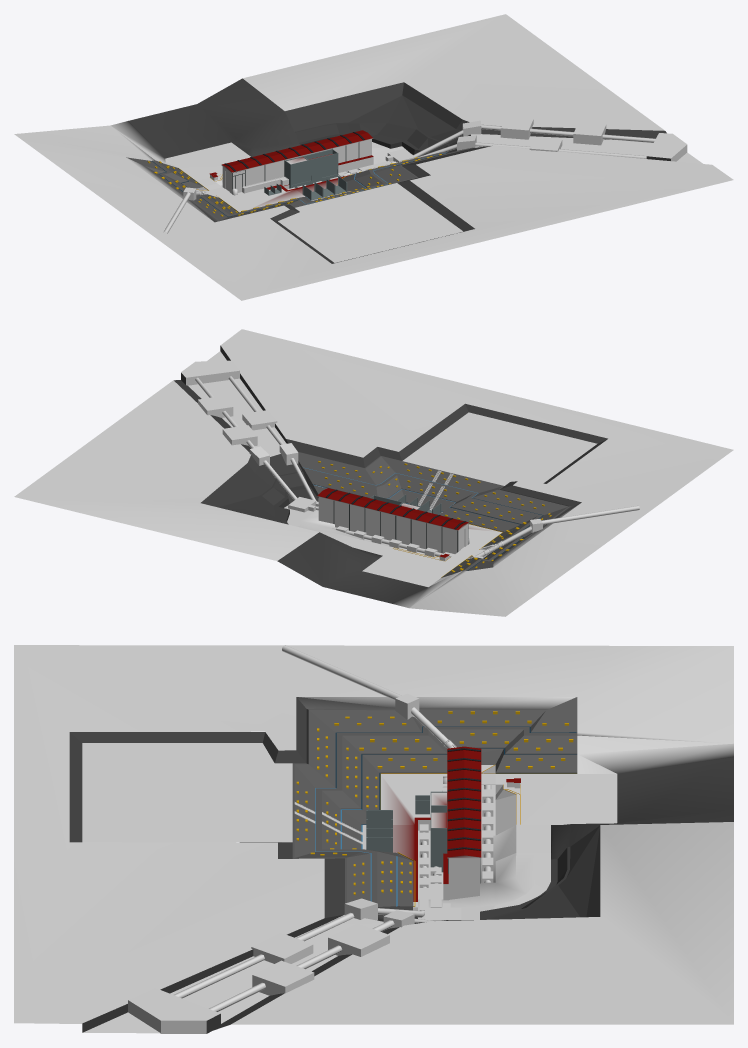
File: Cutzamala_PBR5_Berros_RecursosMaster.glb
3 views of the same model, one above another, from view 1: azimuth 30°, elevation 25°; view 2: azimuth 150°, elevation 25°; view 3: azimuth 270°, elevation 25° (orthographic). The views are drawn at different scales.
Parts seen in each view (by area): view 1: Pasto, Muros_2, Tuberias, Edificio, Piso1, Muros, Techos, Props2, Props1; view 2: Pasto, Muros_2, Tuberias, Muros, Edificio, Piso1, Props2, Techos, Props1; view 3: Pasto, Muros_2, Tuberias, Muros, Piso1, Techos, Edificio, Props2, Props1.
Part boxes in pixels (<box>): Pasto: <box>14,14,733,300</box>; Muros_2: <box>221,82,702,263</box>; Tuberias: <box>164,124,655,262</box>; Edificio: <box>210,139,373,200</box>; Piso1: <box>165,142,304,212</box>; Muros: <box>126,157,300,222</box>; Techos: <box>209,130,373,186</box>; Props2: <box>210,132,446,204</box>; Props1: <box>147,161,299,216</box>; Pasto: <box>14,329,733,616</box>; Muros_2: <box>174,345,607,557</box>; Tuberias: <box>195,376,639,558</box>; Muros: <box>439,485,581,577</box>; Edificio: <box>318,470,469,560</box>; Piso1: <box>362,524,501,586</box>; Props2: <box>303,461,480,559</box>; Techos: <box>317,488,468,557</box>; Props1: <box>393,492,551,577</box>; Pasto: <box>14,645,733,1024</box>; Muros_2: <box>69,732,600,1033</box>; Tuberias: <box>82,645,550,1011</box>; Muros: <box>296,697,577,812</box>; Piso1: <box>381,765,617,835</box>; Techos: <box>431,746,520,883</box>; Edificio: <box>294,776,520,900</box>; Props2: <box>296,748,518,906</box>; Props1: <box>317,693,577,824</box>.
Bounding box in the file's own units: 404 × 32.93 × 324.
